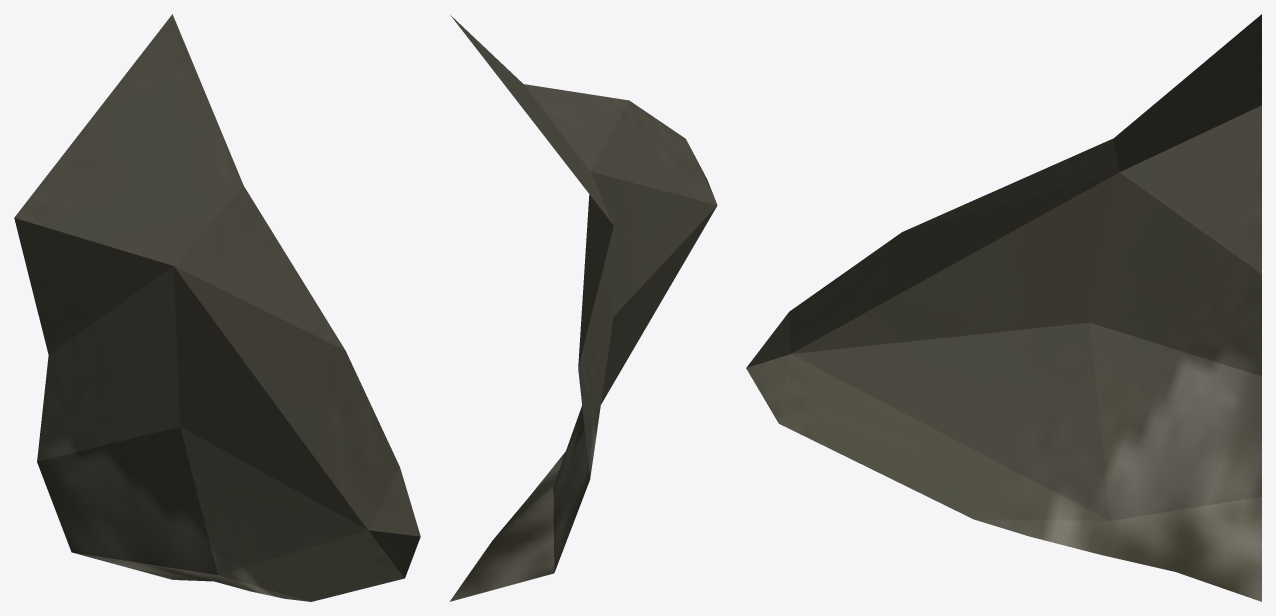
3 renders of one model, left to right at view 1: azimuth 30°, elevation 25°; view 2: azimuth 150°, elevation 25°; view 3: azimuth 270°, elevation 25°, orthographic. The views are drawn at different scales.
Bounding box in the file's own units: 0.1682 × 0.5743 × 0.4566.
Materials: 1 (1 with a texture image).
